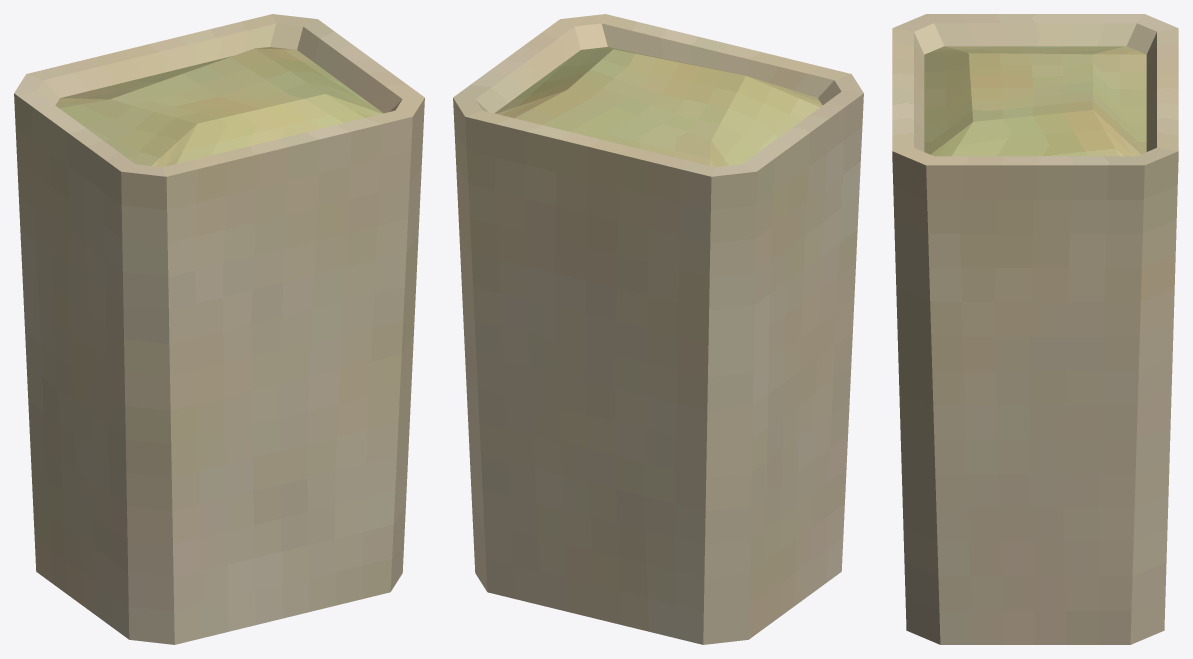
File: TrashCanFull02.glb
The picture shows the model from 3 angles, left to right: view 1: azimuth 30°, elevation 25°; view 2: azimuth 150°, elevation 25°; view 3: azimuth 270°, elevation 25°; orthographic projection. The views are drawn at different scales.
Visible parts, largest first — view 1: TrashCanFull02; view 2: TrashCanFull02; view 3: TrashCanFull02.
Part boxes in pixels (bbox=[...]): TrashCanFull02: bbox=[14, 14, 424, 644]; TrashCanFull02: bbox=[453, 14, 863, 644]; TrashCanFull02: bbox=[892, 14, 1178, 644].
Size of the model in its own units: 0.4 by 0.6137 by 0.32.
Materials: 1 (1 with a texture image).
